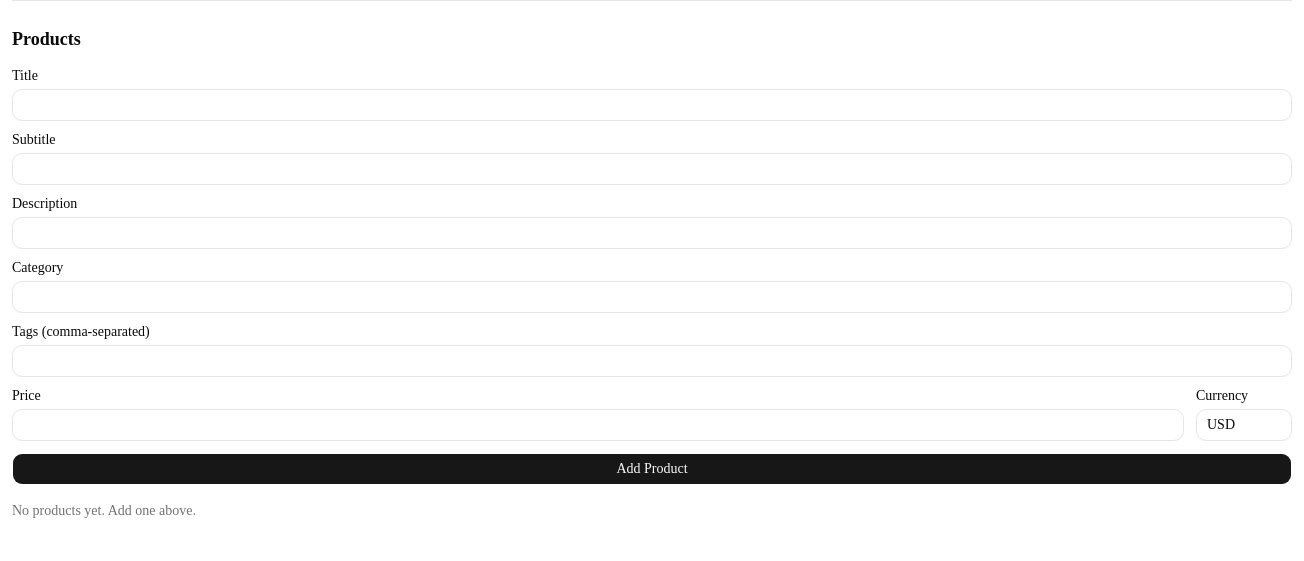
ProductIntelligenceSection › shows a validation error and does not submit when the title is too short
Expected: the text "No products yet. Add one above." is shown, [12,503,196,518]
Step 1. Type "ab" into the field labelled "Title" → point(652, 105), box [12,89,1292,121]
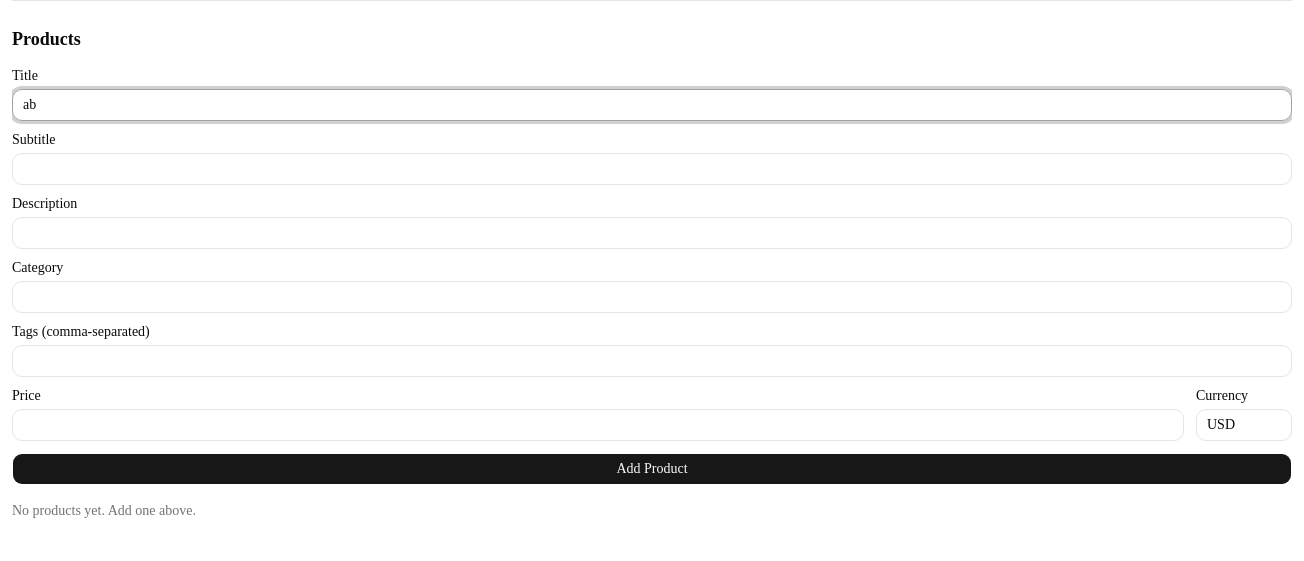
Step 2. Click the button "Add Product" → point(652, 469), box [12,453,1292,485]
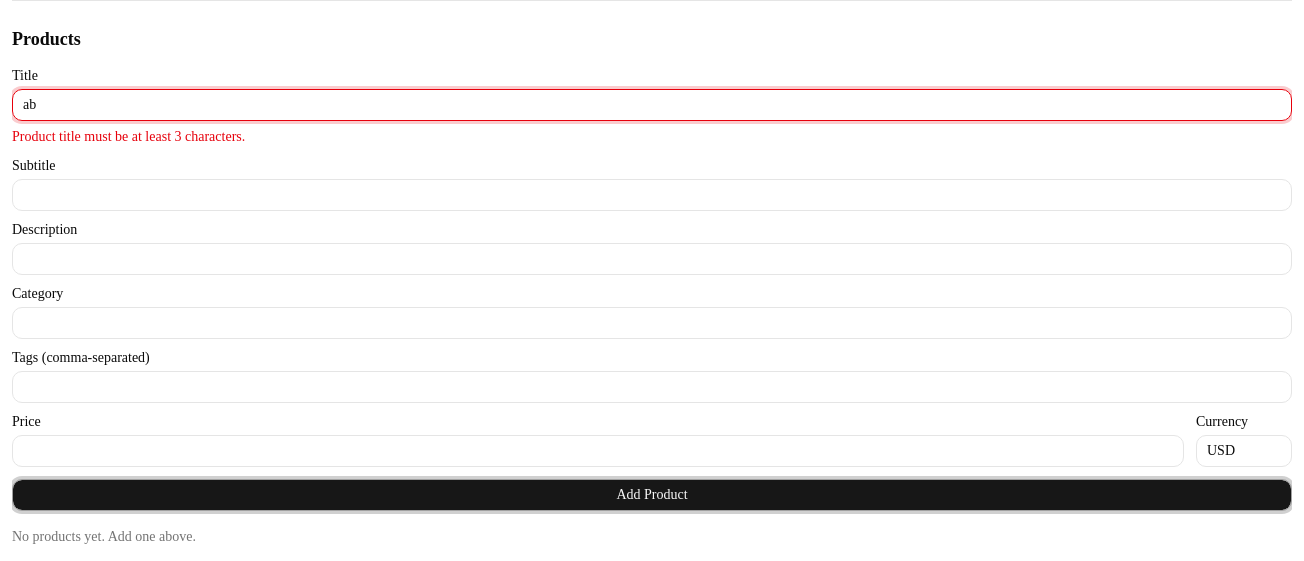
Expected: the message reads "Product title must be at least 3 characters.", [12,129,245,144]
